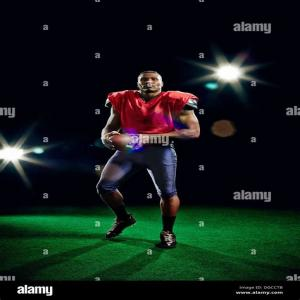Rugby: (104, 132, 145, 154)
